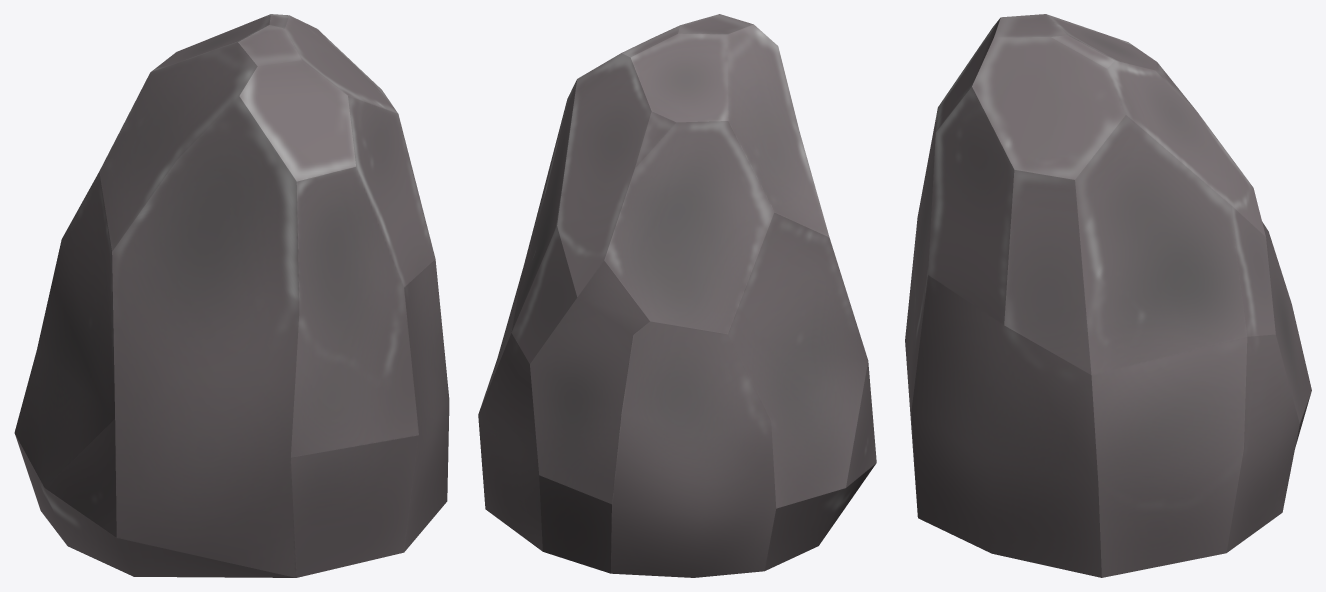
Rendered from ROK0110006.fbx.
3 renders of one model, left to right at view 1: azimuth 30°, elevation 25°; view 2: azimuth 150°, elevation 25°; view 3: azimuth 270°, elevation 25°, orthographic. The views are drawn at different scales.
Parts seen in each view (by area): view 1: smROK0110006; view 2: smROK0110006; view 3: smROK0110006.
Boxes of the visible parts, <box> form: smROK0110006: <box>14,14,449,577</box>; smROK0110006: <box>478,14,876,577</box>; smROK0110006: <box>905,14,1311,577</box>.
Size of the model in its own units: 70.75 by 88.28 by 68.58.
1 material, 1 textured.
